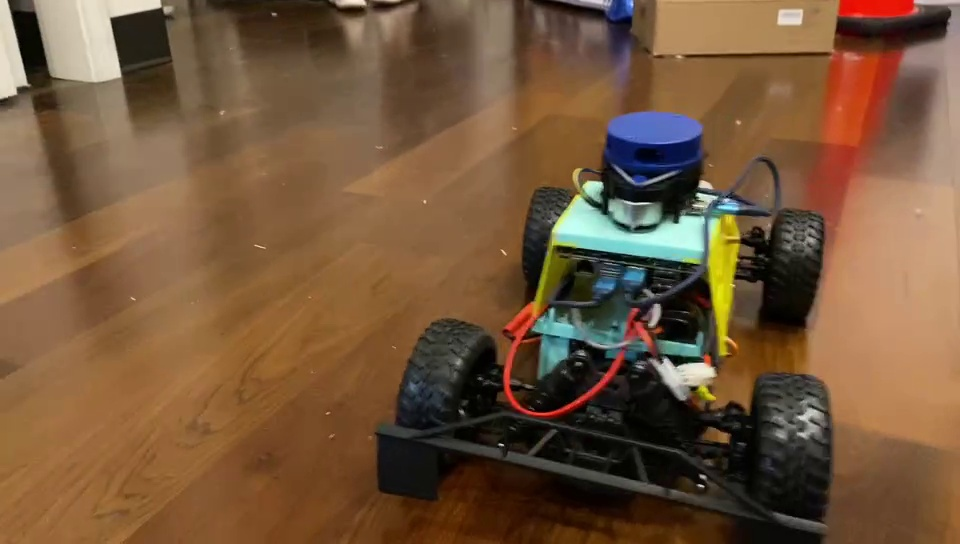mushr_car: (372, 115, 834, 541)
